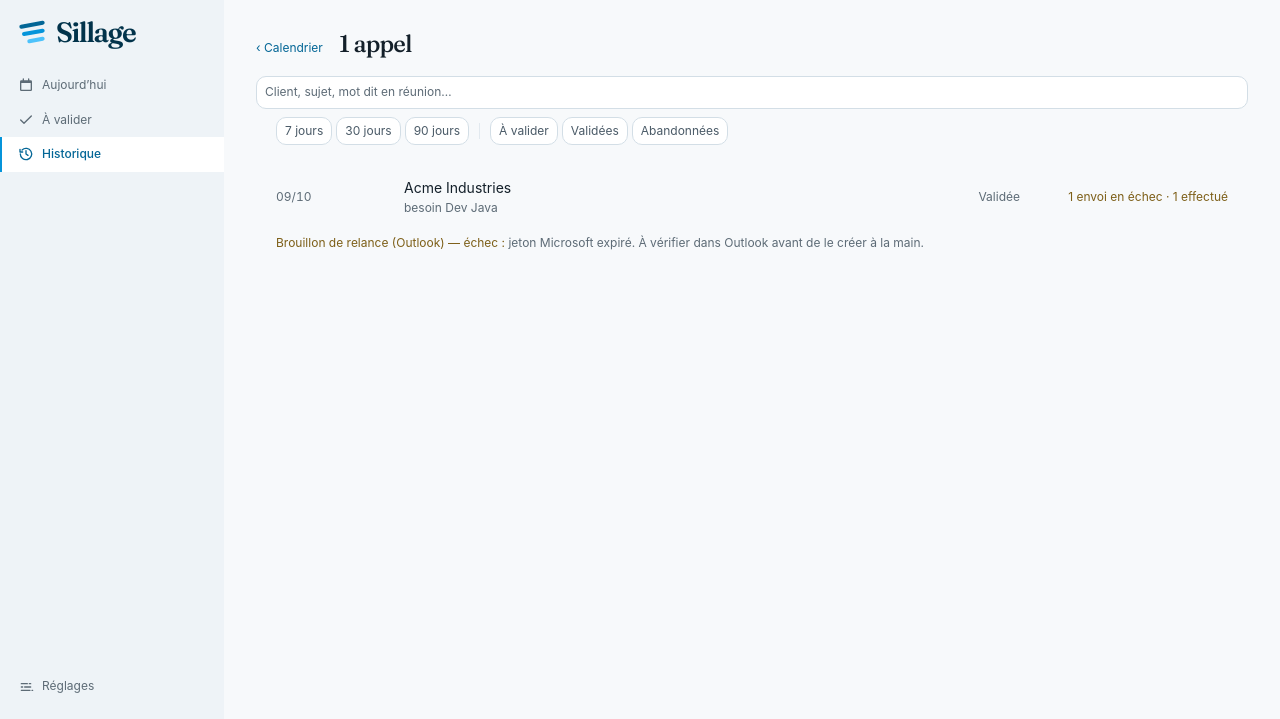
Test: a caption only where the content cannot name itself (US-23) › the transcript and the compte-rendu are not captioned; the two prose panes are
Expected: the list named "Appels enregistrés" is shown, [256,162,1248,260]
Click the button "Acme Industries" at point(294, 197), box [256,162,1248,234]
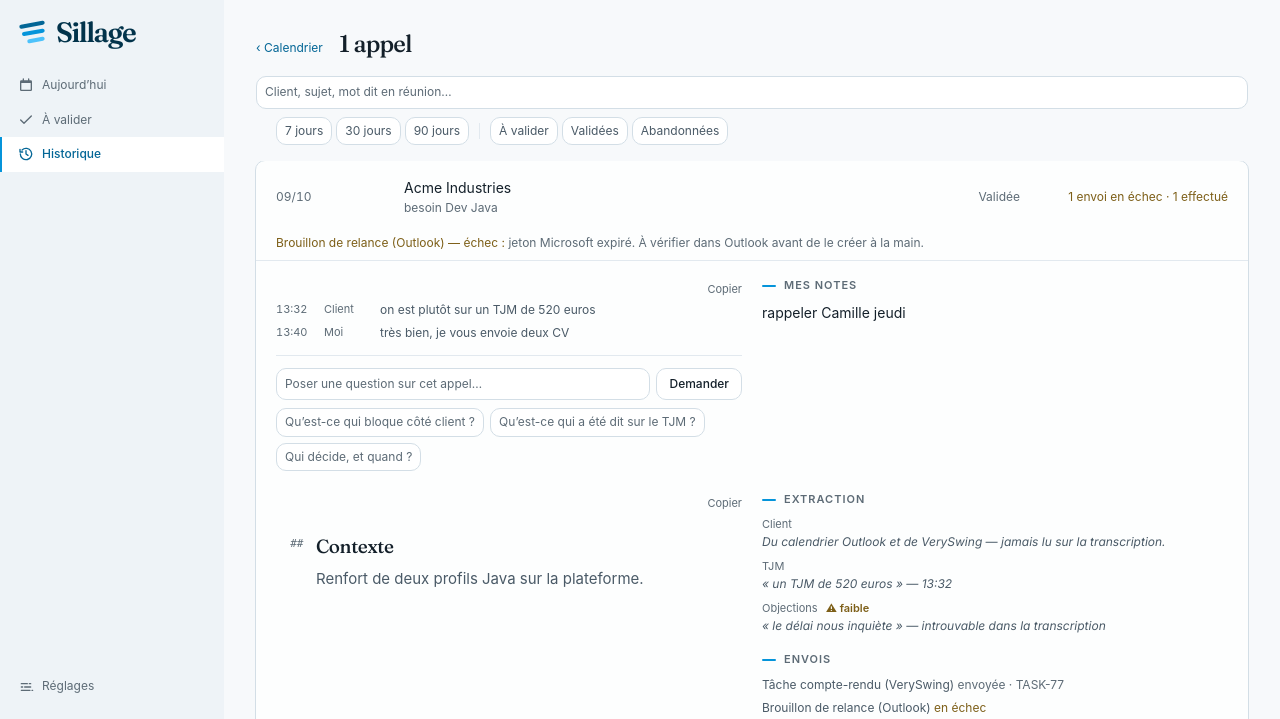
Now the text "on est plutôt sur un TJM de 520 euros" is shown, box [380,302,596,317]
